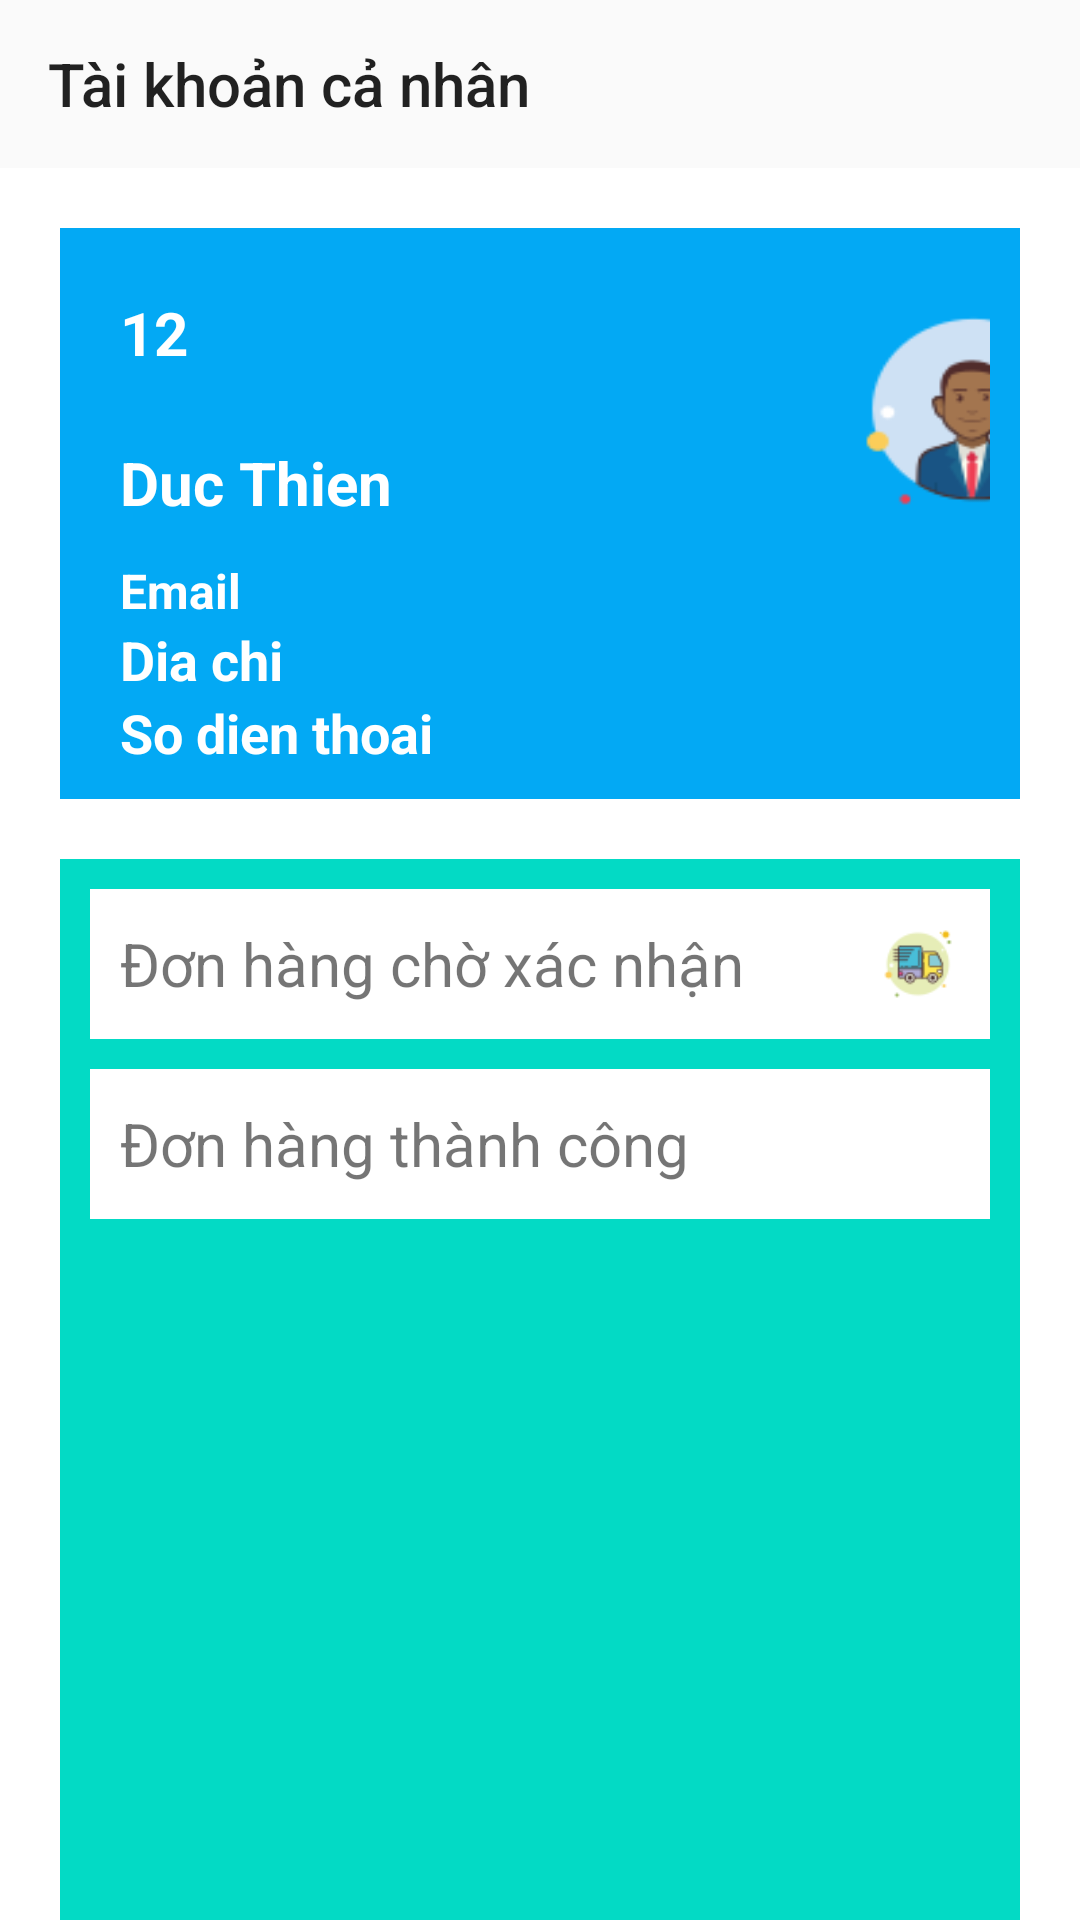

Icons on this 1080x1920 Android screen, each with its box as bbox=(x1, y1, x2, y2):
transit: bbox=(884, 930, 952, 998)
